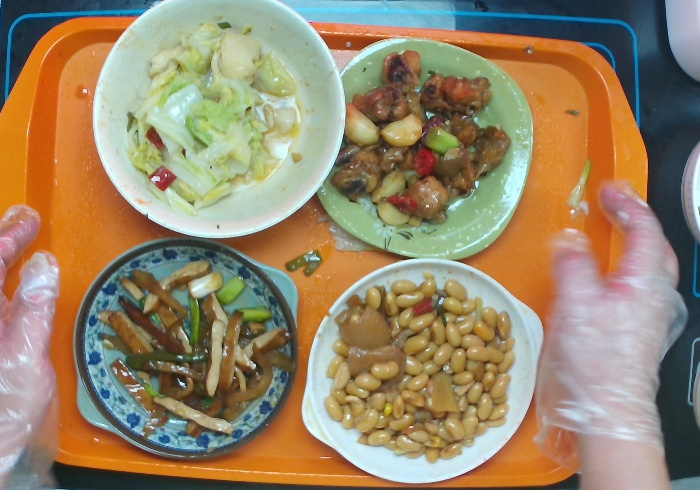NLDX-Bai_Se_Shuang_Er_Die: (296, 254, 548, 488)
NLDX-Bai_Se_Yuan_Wan: (87, 1, 350, 242)
NLDX-Lv_Hua_Fang_Die: (310, 35, 537, 264)
NLDX-Qing_Hua_Shuang_Er_Die: (69, 233, 301, 465)
